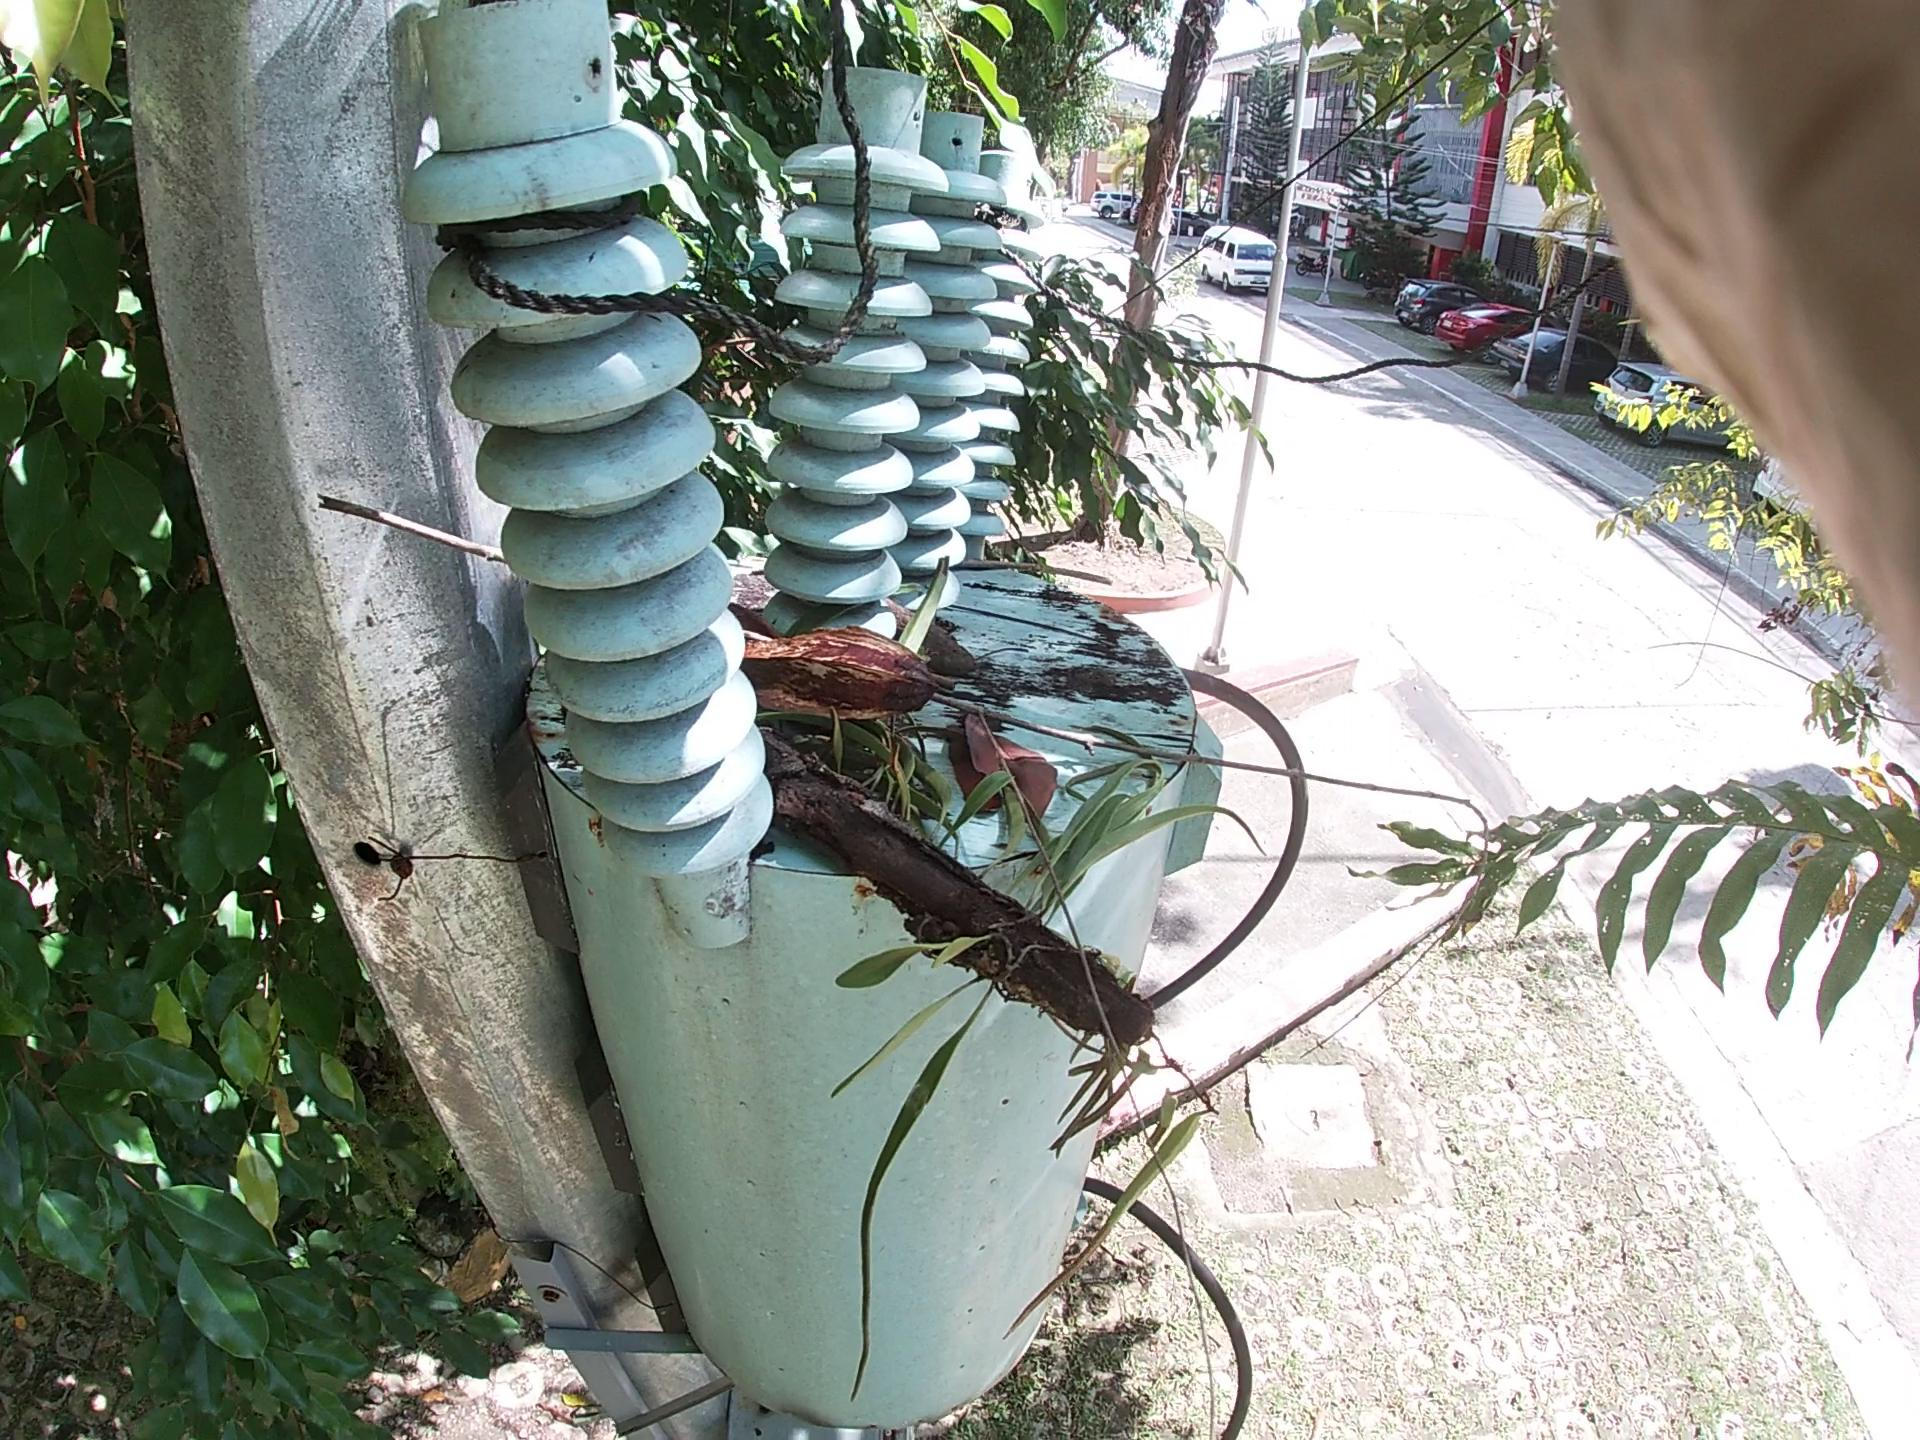branch with leaves: (711, 684, 1234, 1057)
leaf: (900, 675, 1170, 945)
mahogany fruit: (701, 554, 952, 867), (841, 585, 1033, 706)
tree branch: (277, 470, 1544, 897), (903, 554, 1208, 640)
